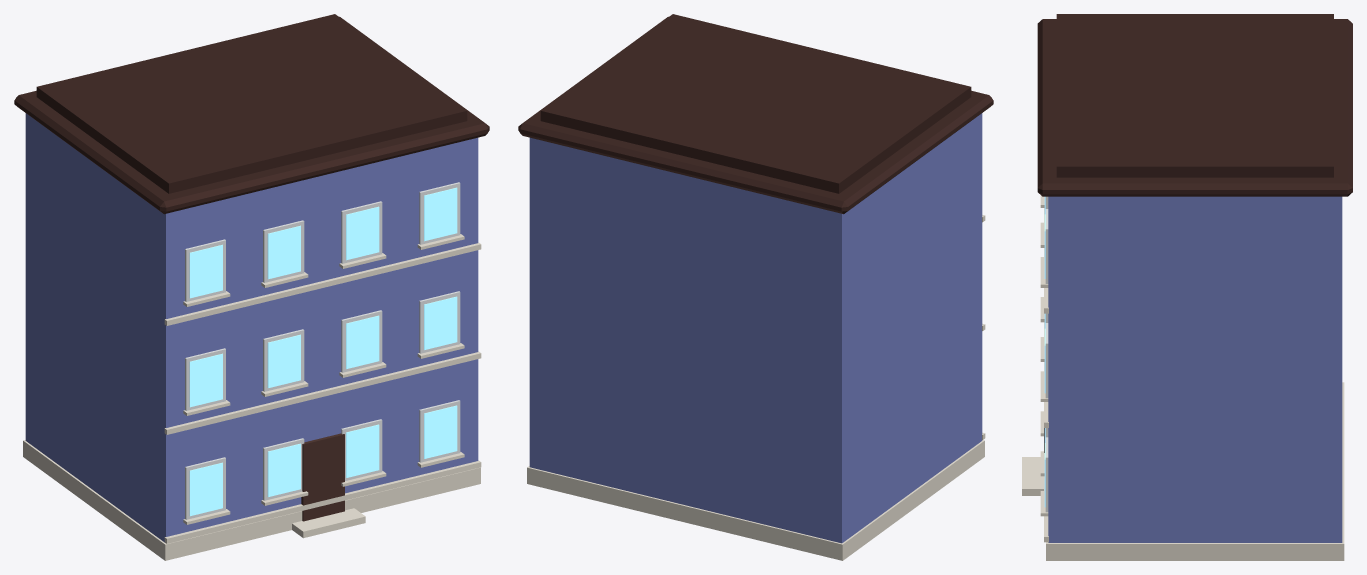
File: parking_bldg_a.glb
3 renders of one model, left to right at view 1: azimuth 30°, elevation 25°; view 2: azimuth 150°, elevation 25°; view 3: azimuth 270°, elevation 25°, orthographic. The views are drawn at different scales.
Parts seen in each view (by area): view 1: ParkingBldgA_body; view 2: ParkingBldgA_body; view 3: ParkingBldgA_body.
Boxes of the visible parts, <box> form: ParkingBldgA_body: <box>14,14,489,560</box>; ParkingBldgA_body: <box>518,14,993,560</box>; ParkingBldgA_body: <box>1022,14,1352,560</box>.
Bounding box in the file's own units: 9.5 × 10.23 × 7.87.
